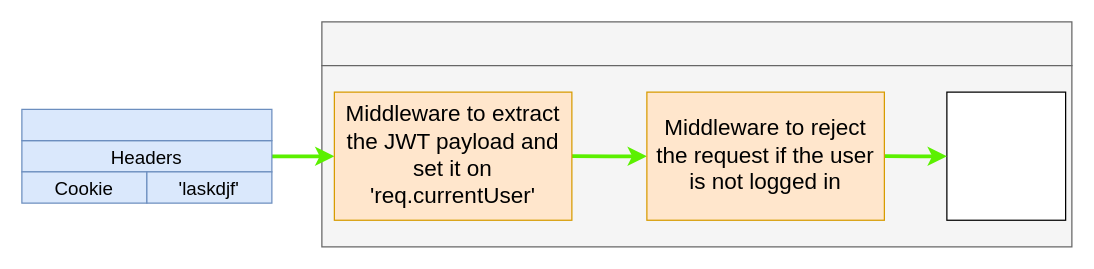
This 1094x269 diagram has some shape labels left out. The shapes that lost their labels are listed below. From the top down, each one's centre as x and y in pixels, then its label:
At (696,43): "Any Service".
At (146,124): "Incoming Request".
At (1006,155): "Route Handler".
